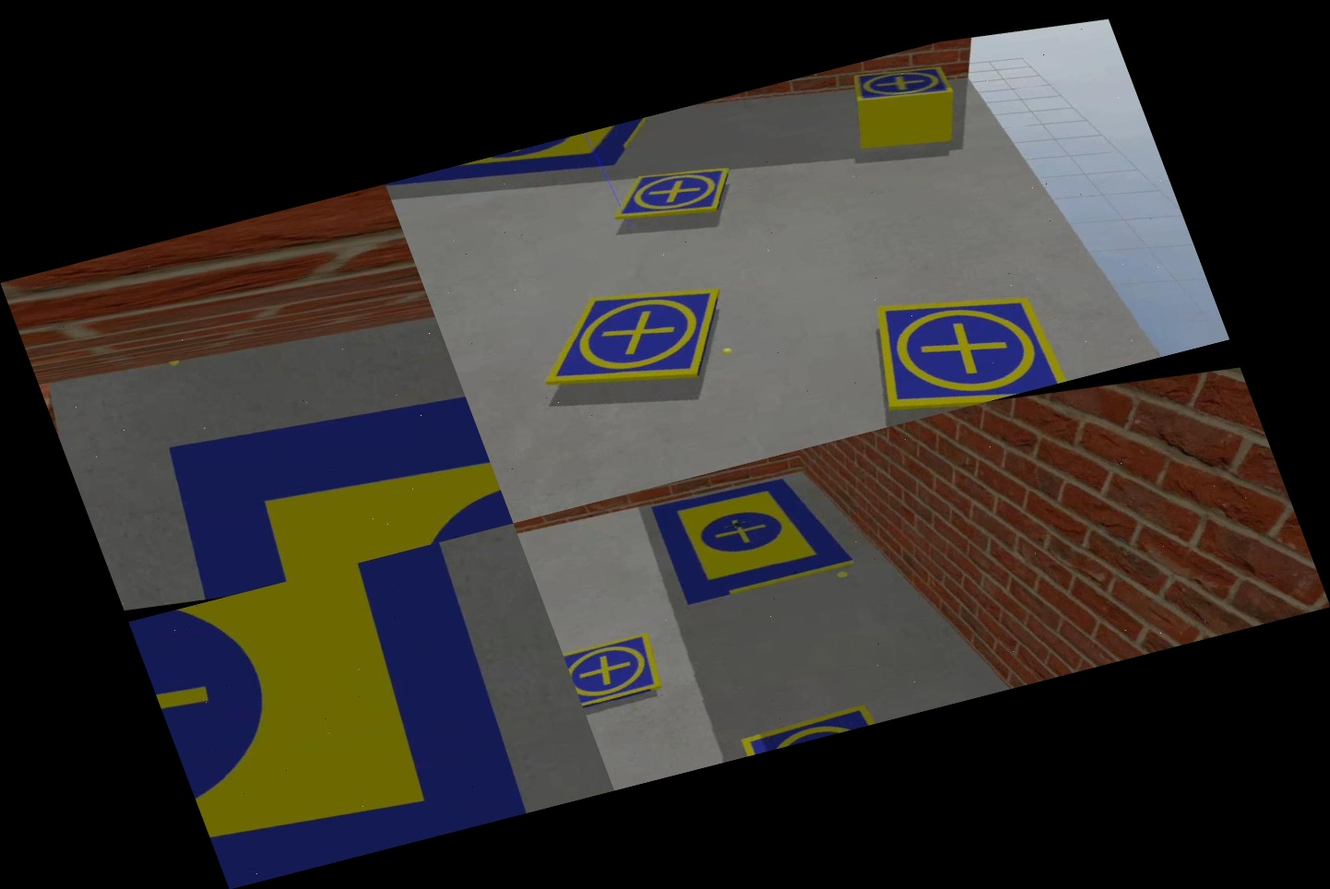large_base: (128, 528, 592, 888), (137, 352, 514, 603), (627, 445, 877, 629), (386, 114, 672, 227)
small_base: (846, 259, 1091, 426), (513, 256, 752, 419), (718, 680, 909, 760), (602, 149, 746, 241), (559, 620, 674, 719), (844, 50, 958, 117)
